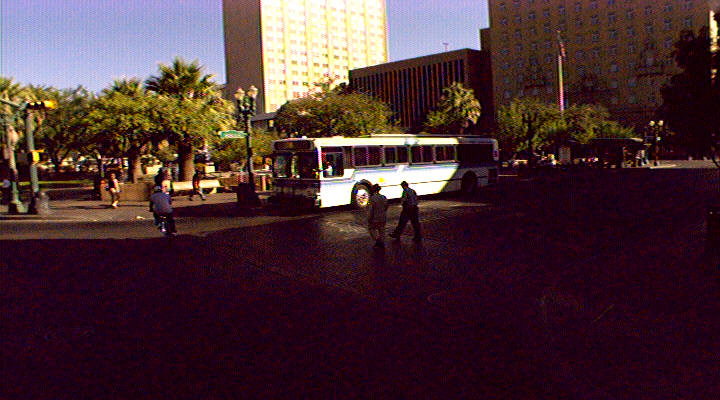Ramp: (71, 201, 160, 232)
